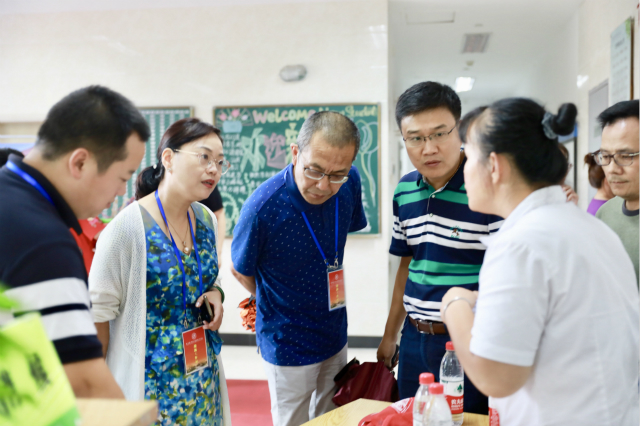noWear: (69, 127, 132, 216), (464, 123, 509, 212), (401, 120, 460, 182), (303, 143, 348, 210), (599, 129, 638, 205), (182, 142, 225, 206)
